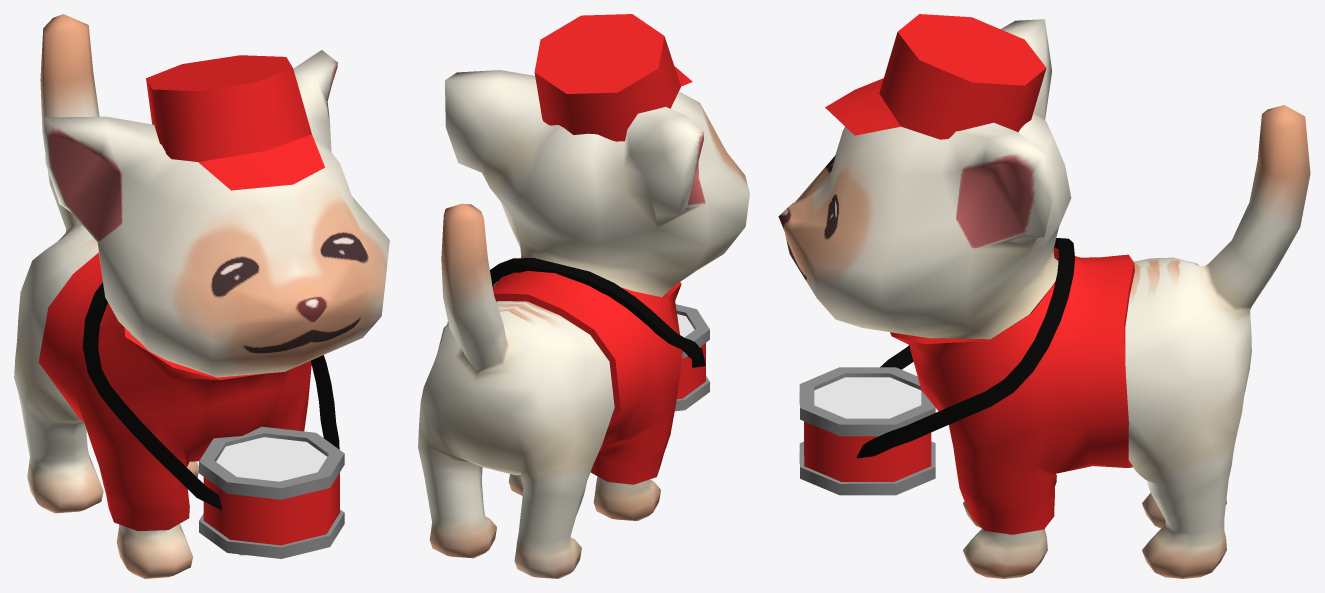
File: Band Cat02.fbx
The picture shows the model from 3 angles, left to right: view 1: azimuth 30°, elevation 25°; view 2: azimuth 150°, elevation 25°; view 3: azimuth 270°, elevation 25°; orthographic projection. The views are drawn at different scales.
Visible parts, largest first — view 1: Cat_Base001, Band_Cat_Uniform, Band_Cat_Drums, Band_Cat_Hat; view 2: Cat_Base001, Band_Cat_Uniform, Band_Cat_Hat, Band_Cat_Drums; view 3: Cat_Base001, Band_Cat_Uniform, Band_Cat_Drums, Band_Cat_Hat.
Boxes of the visible parts, x1=… form: Cat_Base001: x1=14, y1=14, x2=389, y2=578; Band_Cat_Uniform: x1=38, y1=252, x2=311, y2=531; Band_Cat_Drums: x1=82, y1=282, x2=344, y2=558; Band_Cat_Hat: x1=146, y1=55, x2=324, y2=190; Cat_Base001: x1=418, y1=70, x2=749, y2=578; Band_Cat_Uniform: x1=447, y1=271, x2=682, y2=484; Band_Cat_Hat: x1=534, y1=14, x2=692, y2=141; Band_Cat_Drums: x1=490, y1=258, x2=709, y2=411; Cat_Base001: x1=778, y1=19, x2=1310, y2=578; Band_Cat_Uniform: x1=890, y1=247, x2=1134, y2=534; Band_Cat_Drums: x1=799, y1=238, x2=1074, y2=495; Band_Cat_Hat: x1=825, y1=14, x2=1046, y2=139.
Size of the model in its own units: 1.75 by 2.83 by 3.01.
5 materials, 1 textured.
